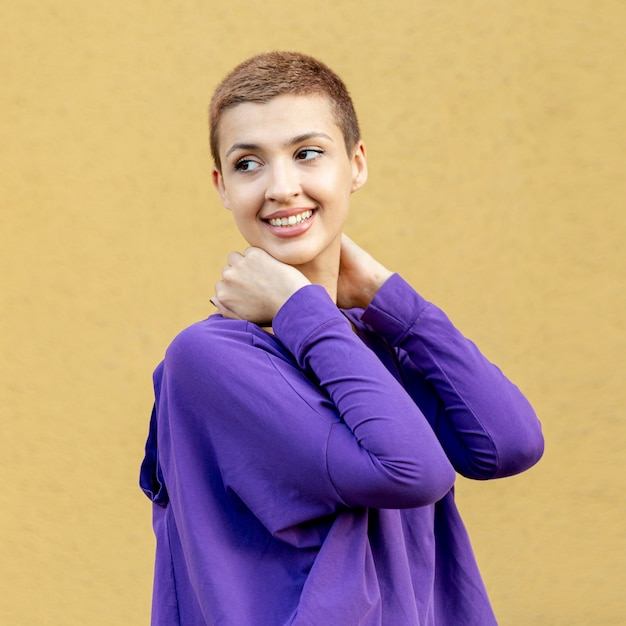teen: (211, 24, 372, 277)
